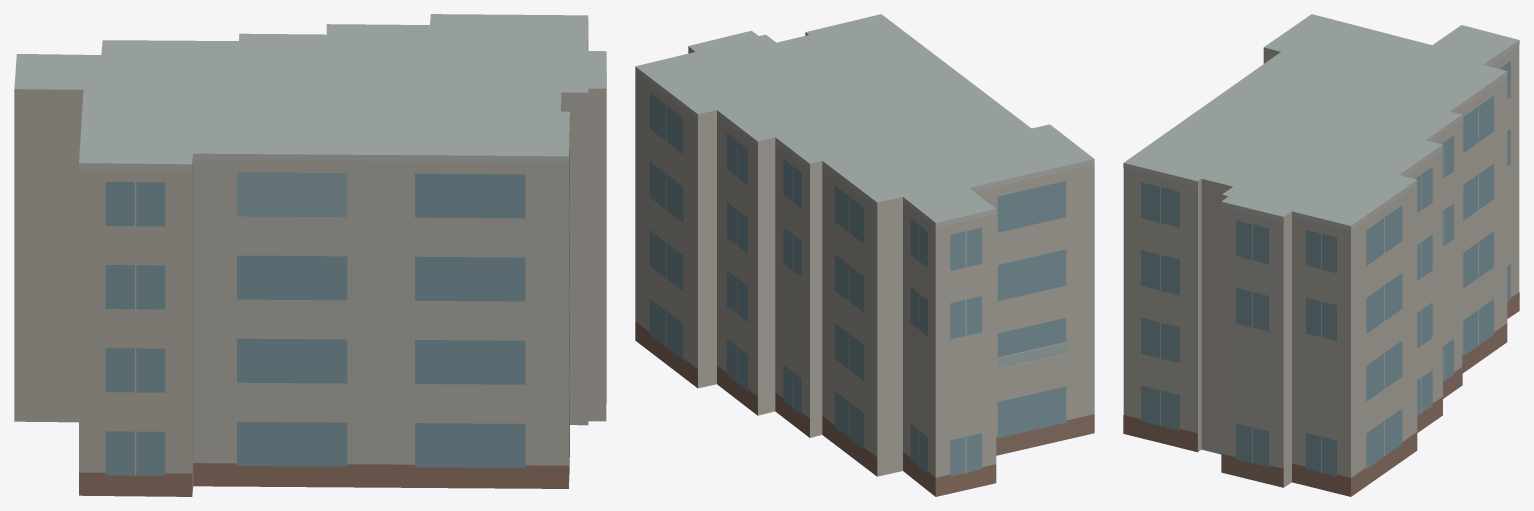
Rendered from survey-upis-32935168.glb.
3 views of the same model, side by side, from view 1: azimuth 30°, elevation 25°; view 2: azimuth 150°, elevation 25°; view 3: azimuth 270°, elevation 25° (orthographic). The views are drawn at different scales.
Visible parts, largest first — view 1: survey-upis-32935168.tmp; view 2: survey-upis-32935168.tmp; view 3: survey-upis-32935168.tmp.
Boxes of the visible parts, left/top/right/bottom form: survey-upis-32935168.tmp: left=14, top=14, right=606, bottom=496; survey-upis-32935168.tmp: left=635, top=14, right=1094, bottom=496; survey-upis-32935168.tmp: left=1123, top=14, right=1519, bottom=496.
Size of the model in its own units: 21.57 by 12.85 by 17.03.
